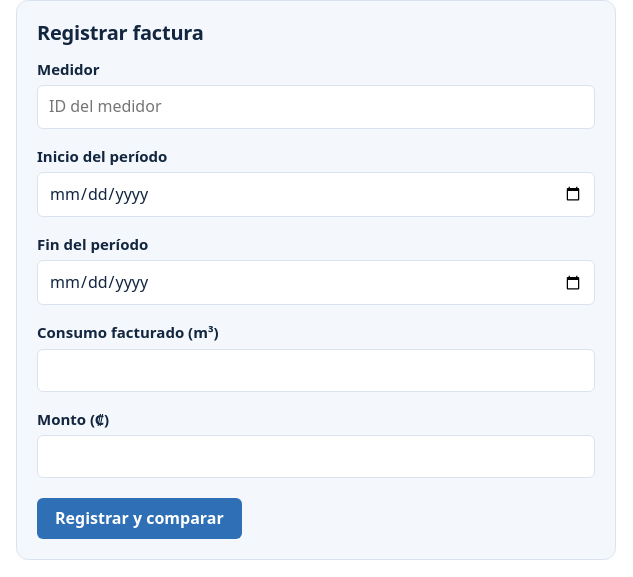
Test: PantallaFactura › registra la factura y muestra la comparación cuando hay lecturas suficientes
This screenshot has width=633, height=577.
Type "medidor-1" into the field labelled "Medidor" at point(316, 107), box x1=37 y1=85 x2=595 y2=129
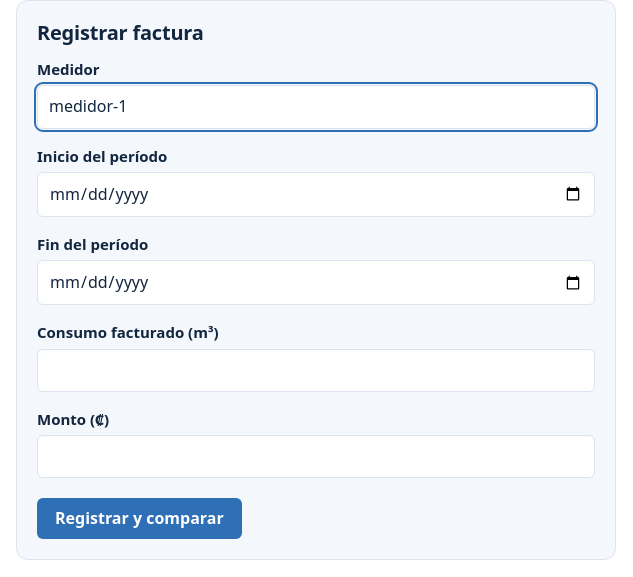
Type "2026-07-01" into the date field labelled "Inicio del período" at point(316, 194), box x1=37 y1=172 x2=595 y2=217
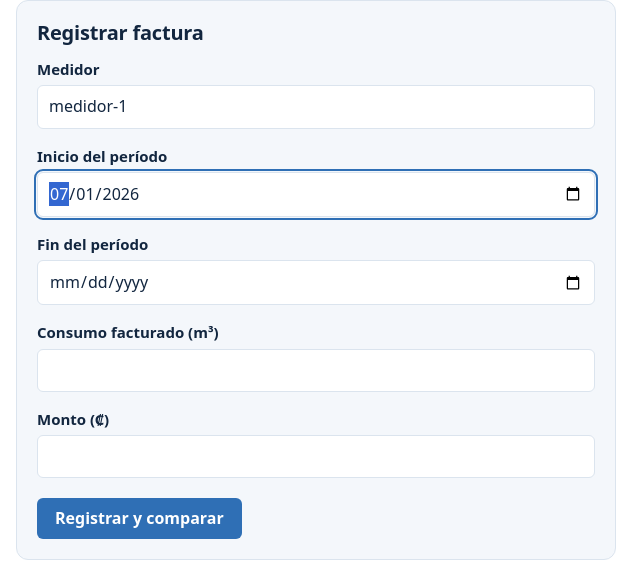
Type "2026-08-01" into the date field labelled "Fin del período" at point(316, 283), box x1=37 y1=260 x2=595 y2=305
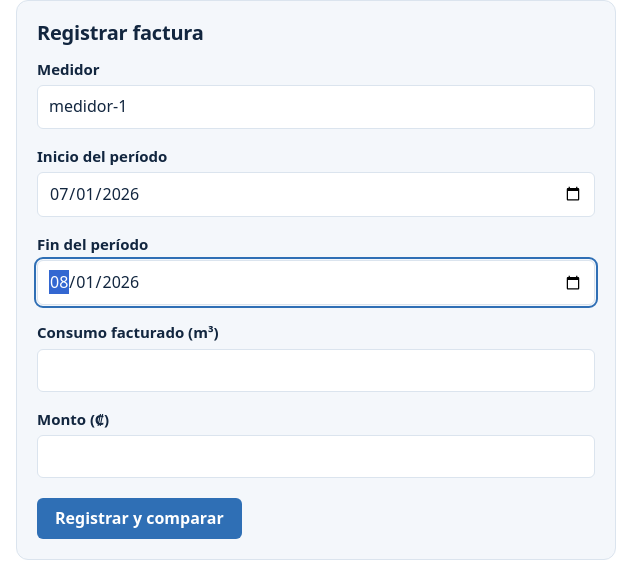
Type "14" into the field labelled "Consumo facturado (m³)" at point(316, 370), box x1=37 y1=349 x2=595 y2=392
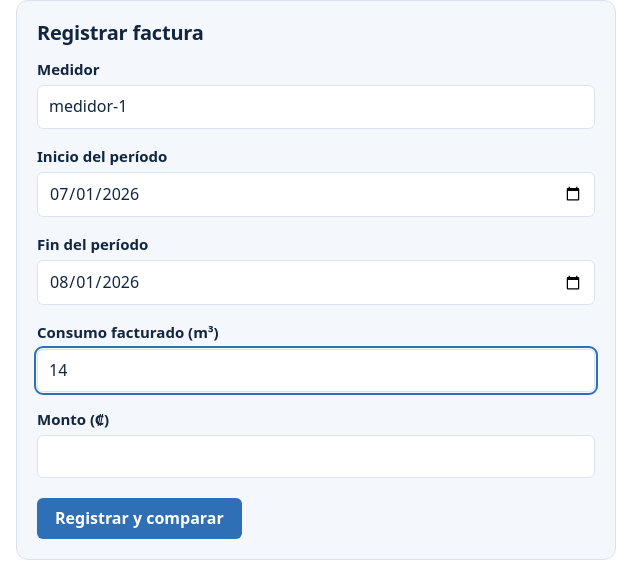
Type "8250" into the field labelled "Monto (₡)" at point(316, 457), box x1=37 y1=435 x2=595 y2=478
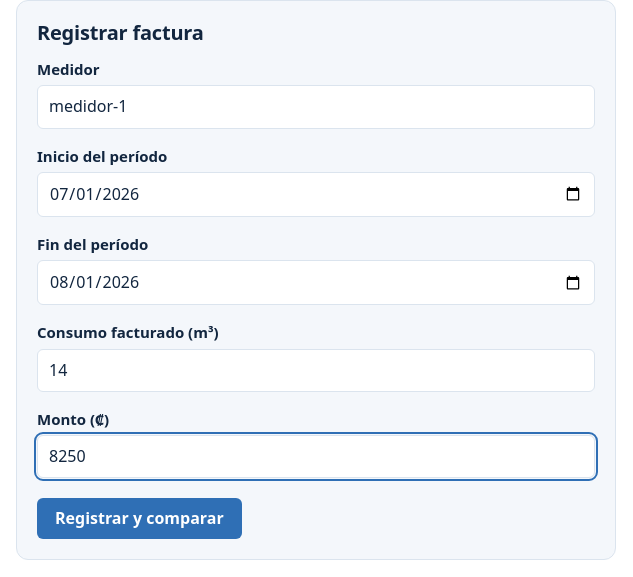
Click the button "Registrar y comparar" at point(139, 519), box x1=37 y1=498 x2=242 y2=539
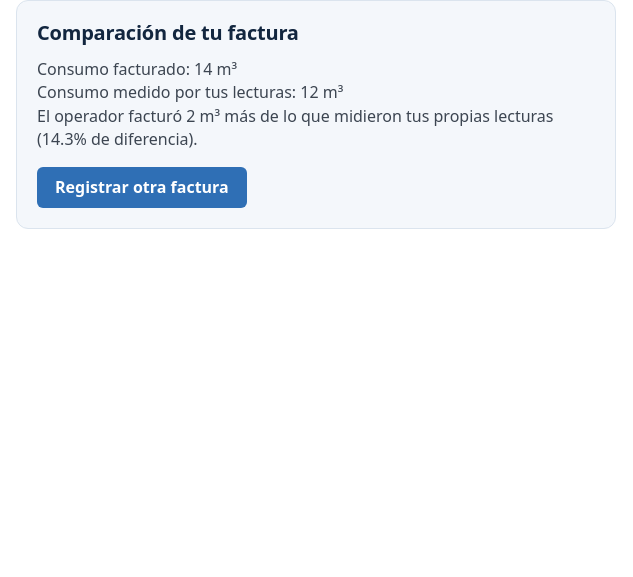
Expected: the heading "Comparación de tu factura" is shown, x1=37 y1=19 x2=299 y2=46
Expected: the text "Consumo facturado: 14 m³" is shown, x1=37 y1=58 x2=237 y2=80
Expected: the text "Consumo medido por tus lecturas: 12 m³" is shown, x1=37 y1=81 x2=343 y2=103
